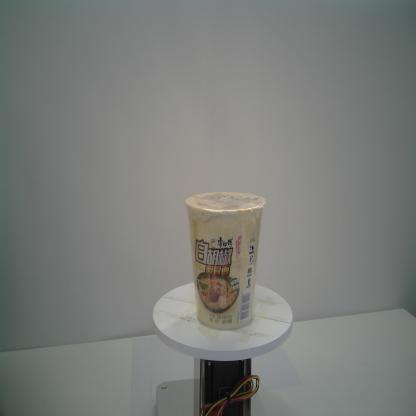Instant Noodles: (183, 190, 266, 331)
